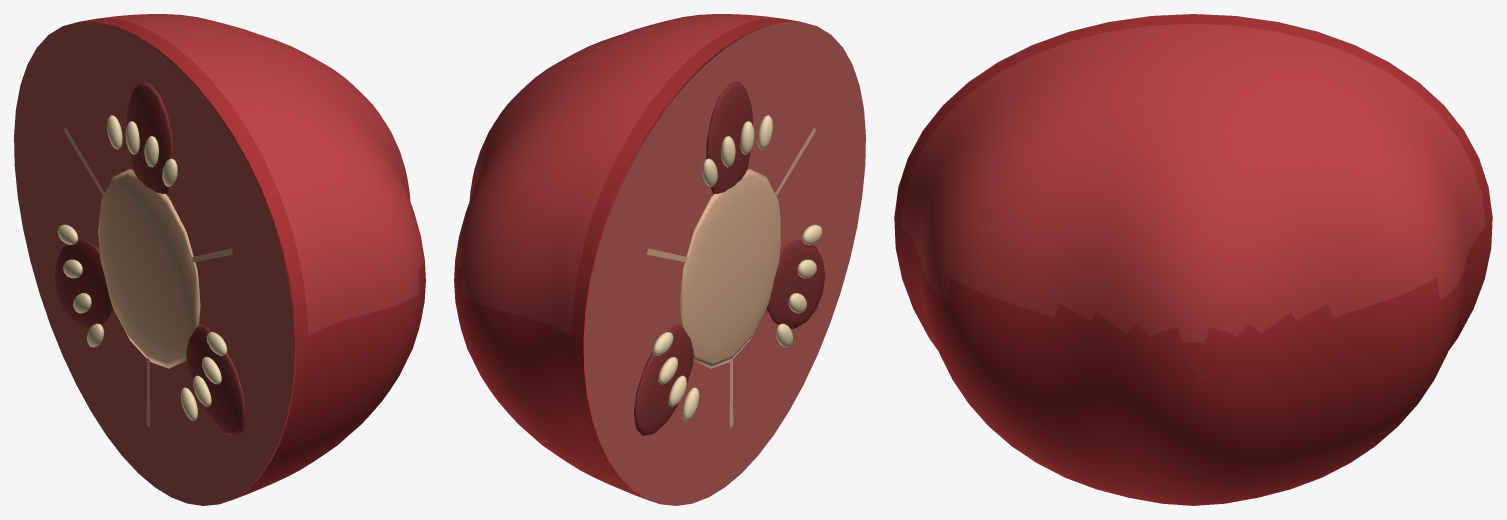
File: cocktail_half.glb
3 renders of one model, left to right at view 1: azimuth 30°, elevation 25°; view 2: azimuth 150°, elevation 25°; view 3: azimuth 270°, elevation 25°, orthographic. The views are drawn at different scales.
Visible parts, largest first — view 1: Cocktail Cocktail sweet rose-coral flesh, Cocktail Cocktail rose-red satin skin / Cocktail subtle sunw, Cocktail Cocktail three-way pale pith, Cocktail Cocktail three deep gel locules, Cocktail Cocktail small ivory seeds; view 2: Cocktail Cocktail sweet rose-coral flesh, Cocktail Cocktail rose-red satin skin / Cocktail subtle sunw, Cocktail Cocktail three-way pale pith, Cocktail Cocktail three deep gel locules, Cocktail Cocktail small ivory seeds; view 3: Cocktail Cocktail rose-red satin skin / Cocktail subtle sunw, Cocktail Cocktail sweet rose-coral flesh.
Boxes of the visible parts, x1,y1,x2,y2 form: Cocktail Cocktail sweet rose-coral flesh: (14,22,294,505); Cocktail Cocktail rose-red satin skin / Cocktail subtle sunw: (79,14,425,504); Cocktail Cocktail three-way pale pith: (64,127,232,427); Cocktail Cocktail three deep gel locules: (54,81,245,436); Cocktail Cocktail small ivory seeds: (57,115,227,420); Cocktail Cocktail sweet rose-coral flesh: (585,22,865,505); Cocktail Cocktail rose-red satin skin / Cocktail subtle sunw: (454,14,800,504); Cocktail Cocktail three-way pale pith: (647,127,815,427); Cocktail Cocktail three deep gel locules: (634,81,825,436); Cocktail Cocktail small ivory seeds: (652,115,822,420); Cocktail Cocktail rose-red satin skin / Cocktail subtle sunw: (894,14,1492,505); Cocktail Cocktail sweet rose-coral flesh: (894,14,1492,216).
Size of the model in its own units: 0.5552 by 0.9 by 1.04.
